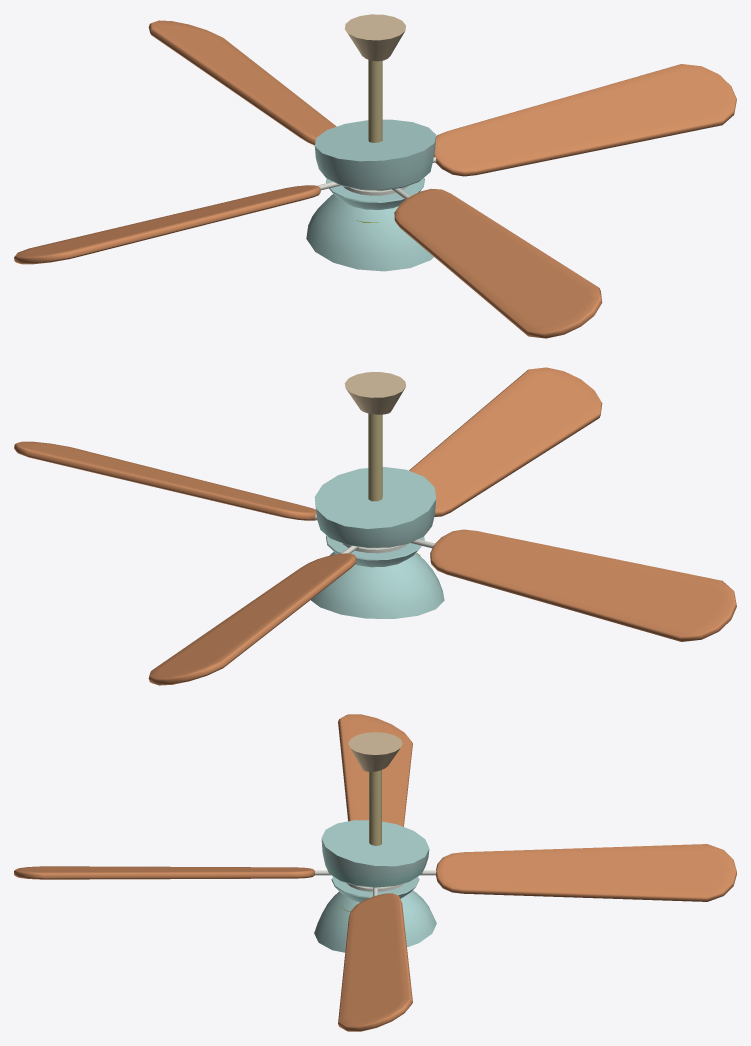
The model's file is SHAVR_SET_FAN.fbx.
3 views of the same model, one above another, from view 1: azimuth 30°, elevation 25°; view 2: azimuth 150°, elevation 25°; view 3: azimuth 270°, elevation 25° (orthographic). The views are drawn at different scales.
Visible parts, largest first — view 1: SHAVR_SET_FAN_BLADE, SHAVR_SET_FAN_BASE; view 2: SHAVR_SET_FAN_BLADE, SHAVR_SET_FAN_BASE; view 3: SHAVR_SET_FAN_BLADE, SHAVR_SET_FAN_BASE.
Part boxes in pixels (<box>): SHAVR_SET_FAN_BLADE: <box>14,20,736,338</box>; SHAVR_SET_FAN_BASE: <box>306,14,436,271</box>; SHAVR_SET_FAN_BLADE: <box>14,367,736,685</box>; SHAVR_SET_FAN_BASE: <box>311,372,444,618</box>; SHAVR_SET_FAN_BLADE: <box>14,714,736,1031</box>; SHAVR_SET_FAN_BASE: <box>314,732,436,952</box>.
Bounding box in the file's own units: 1.76 × 0.5113 × 1.76.
